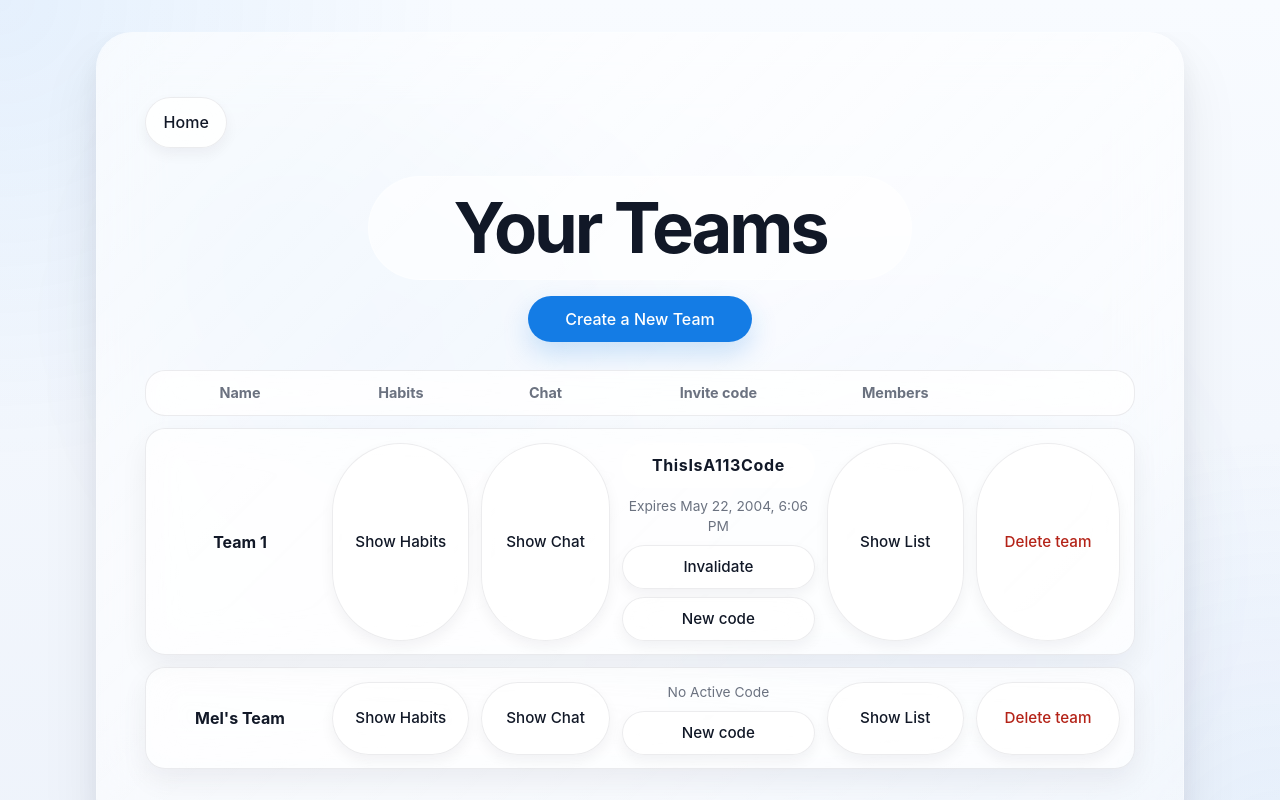
Test: on invalidate code invalidates code
Expected: the text "Team 1" is shown, [213,532,267,552]
Expected: the text "ThisIsA113Code" is shown, [622,443,815,488]
Step 1. Click the button "Invalidate" → click(718, 567), box [622,545,815,589]
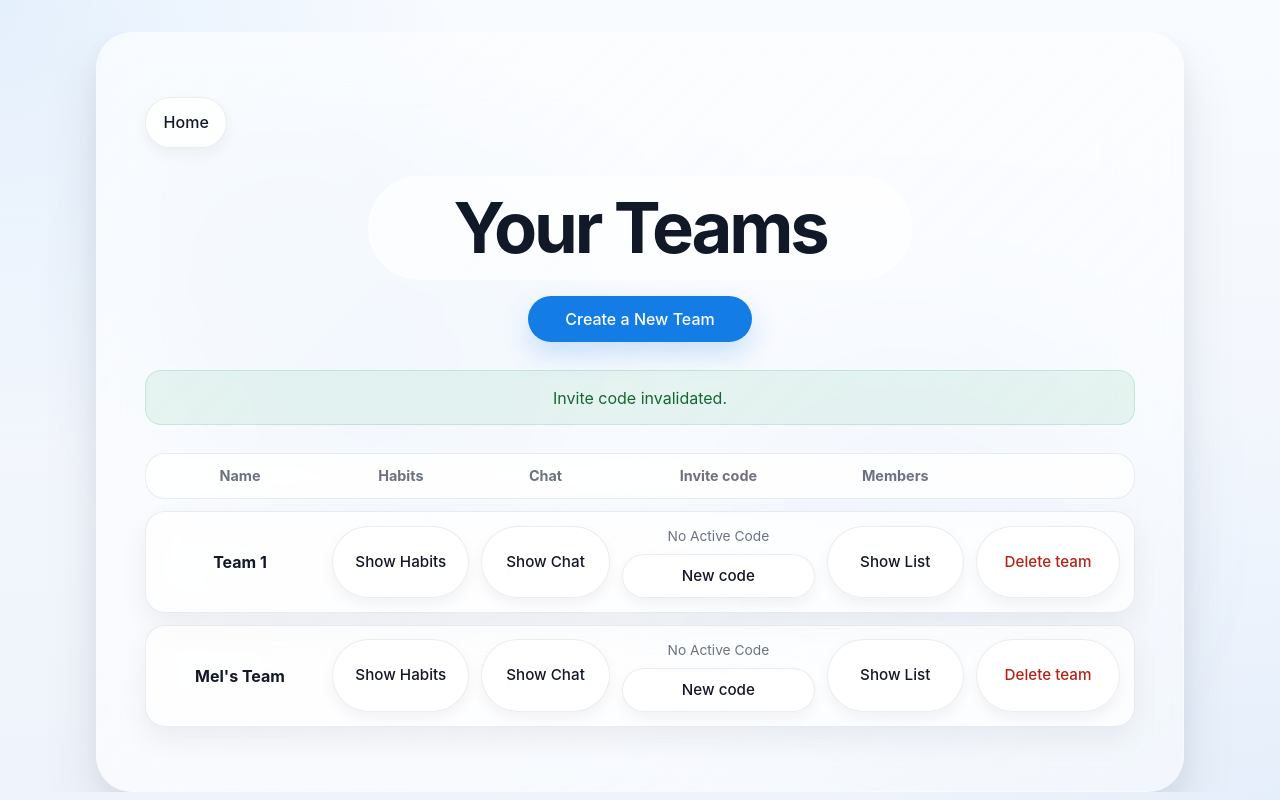
Expected: the text "Team 1" is shown, [213,552,267,572]
Expected: the text "ThisIsA113Code" is gone
Expected: the text "No Active Code" is shown 2 times, [668,528,769,544]; [668,641,769,657]
